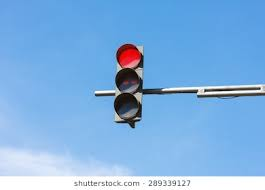traffic light: (106, 36, 151, 140)
